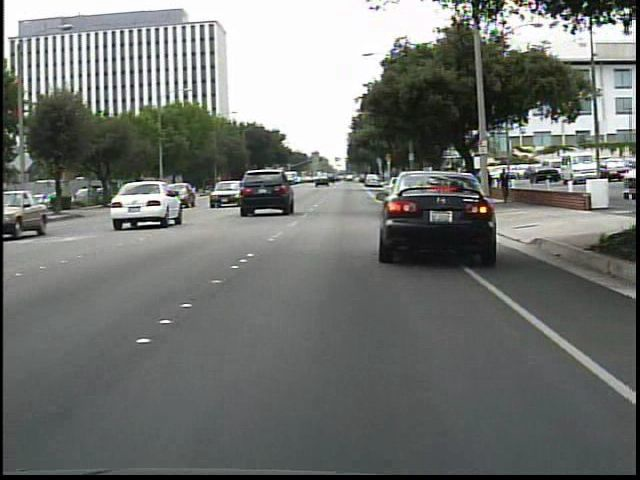person: (496, 167, 514, 207), (482, 168, 496, 203)
